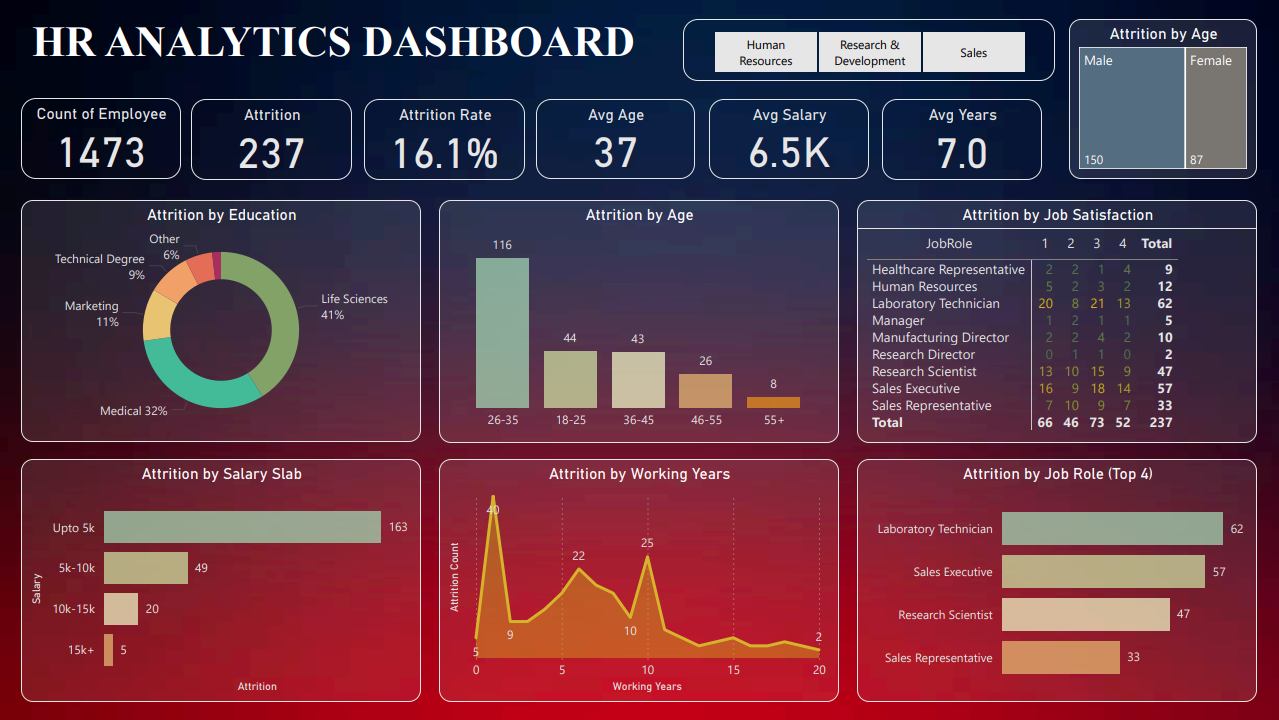

What the dashboard file says about the page in this screenshot:
{"tool":"powerbi","page":{"name":"Page 1","canvas":[1280,720],"ordinal":0},"visuals":[{"type":"card","title":"Count of Employee","fields":{"Values":["CountNonNull(HR_Analytics.EmpID)"]},"box":[22.2,98.5,159.7,80.7],"z":0},{"type":"card","title":"Attrition","fields":{"Values":["Sum(HR_Analytics.AttritionCount)"]},"box":[192.5,99.3,160.6,80.7],"z":1000},{"type":"card","title":"Attrition Rate","fields":{"Values":["HR_Analytics.AttritionRate"]},"box":[365.5,99.3,160.6,80.7],"z":2000},{"type":"card","title":"Avg Salary","fields":{"Values":["Avg(HR_Analytics.MonthlyIncome)"]},"box":[709.6,99.3,160.6,79.8],"z":3000},{"type":"card","title":"Avg Age","fields":{"Values":["Avg(HR_Analytics.Age)"]},"box":[536.7,99.3,159.7,79.8],"z":4000},{"type":"card","title":"Avg Years","fields":{"Values":["Avg(HR_Analytics.YearsAtCompany)"]},"box":[882.6,99.3,160.6,80.7],"z":5000},{"type":"donutChart","title":"Attrition by Education","fields":{"Y":["CountNonNull(HR_Analytics.Attrition)"],"Category":["HR_Analytics.EducationField"]},"box":[22.2,200.5,400,242],"z":6000},{"type":"columnChart","title":"Attrition by Age","fields":{"Category":["HR_Analytics.AgeGroup"],"Y":["Sum(HR_Analytics.AttritionCount)"]},"box":[440,200.5,400.1,242.2],"z":7000},{"type":"pivotTable","title":"Attrition by Job Satisfaction","fields":{"Rows":["HR_Analytics.JobRole"],"Columns":["HR_Analytics.JobSatisfaction"],"Values":["Sum(HR_Analytics.AttritionCount)"]},"box":[857.8,200.5,400.1,242.2],"z":8000},{"type":"barChart","title":"Attrition by Salary Slab","fields":{"Y":["Sum(HR_Analytics.AttritionCount)"],"Category":["HR_Analytics.SalarySlab"]},"box":[22.2,459.5,400.1,242.2],"z":9000},{"type":"barChart","title":"Attrition by Job Role (Top 4)","fields":{"Y":["Sum(HR_Analytics.AttritionCount)"],"Category":["HR_Analytics.JobRole"]},"box":[857.8,459.5,400.1,242.2],"z":10000},{"type":"areaChart","title":"Attrition by Working Years","fields":{"Category":["HR_Analytics.TotalWorkingYears"],"Y":["Sum(HR_Analytics.AttritionCount)"]},"box":[440,459.5,400.1,242.2],"z":11000},{"type":"treemap","title":"Attrition by Age","fields":{"Group":["HR_Analytics.Gender"],"Values":["Sum(HR_Analytics.AttritionCount)"]},"box":[1069.8,18.6,188.1,160.6],"z":12000},{"type":"slicer","fields":{"Values":["HR_Analytics.Department"]},"box":[683.9,18.6,371.7,62.1],"z":13000},{"type":"textbox","box":[22.2,12.4,624.5,73.6],"z":14000}]}

Visuals, with their boxes in screenshot pixels (x1, y1, x2, y2), scaled from the page's 1280x720 canvas onto the 1279x720 screenshot:
"Count of Employee" card: crop(22, 98, 182, 179)
"Attrition" card: crop(192, 99, 353, 180)
"Attrition Rate" card: crop(365, 99, 526, 180)
"Avg Salary" card: crop(709, 99, 870, 179)
"Avg Age" card: crop(536, 99, 696, 179)
"Avg Years" card: crop(882, 99, 1042, 180)
"Attrition by Education" donutChart: crop(22, 200, 422, 442)
"Attrition by Age" columnChart: crop(440, 200, 839, 443)
"Attrition by Job Satisfaction" pivotTable: crop(857, 200, 1257, 443)
"Attrition by Salary Slab" barChart: crop(22, 460, 422, 702)
"Attrition by Job Role (Top 4)" barChart: crop(857, 460, 1257, 702)
"Attrition by Working Years" areaChart: crop(440, 460, 839, 702)
"Attrition by Age" treemap: crop(1069, 19, 1257, 179)
slicer - HR_Analytics.Department: crop(683, 19, 1055, 81)
textbox: crop(22, 12, 646, 86)
